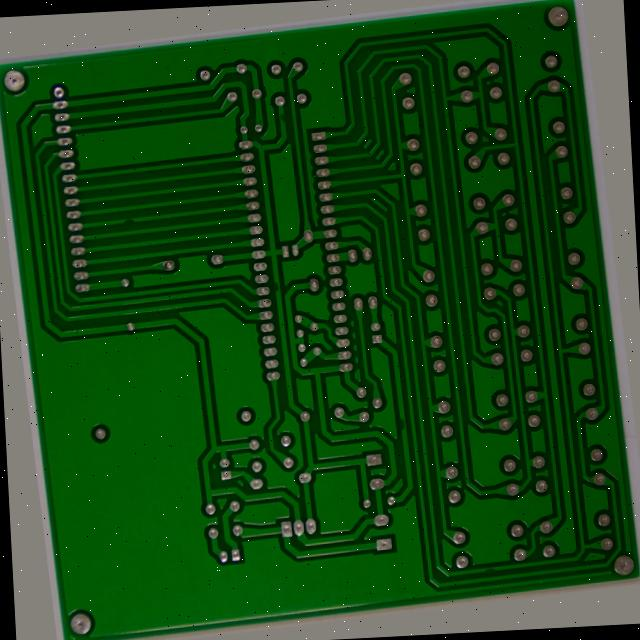mouse_bite: (393, 426, 407, 447), (269, 270, 283, 290), (473, 592, 494, 605), (115, 193, 134, 206), (288, 93, 301, 112)
